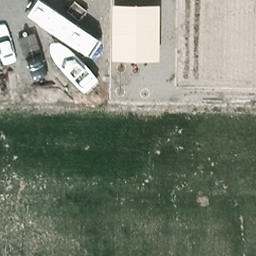car: (1, 19, 20, 69)
pickup: (17, 30, 51, 80)
